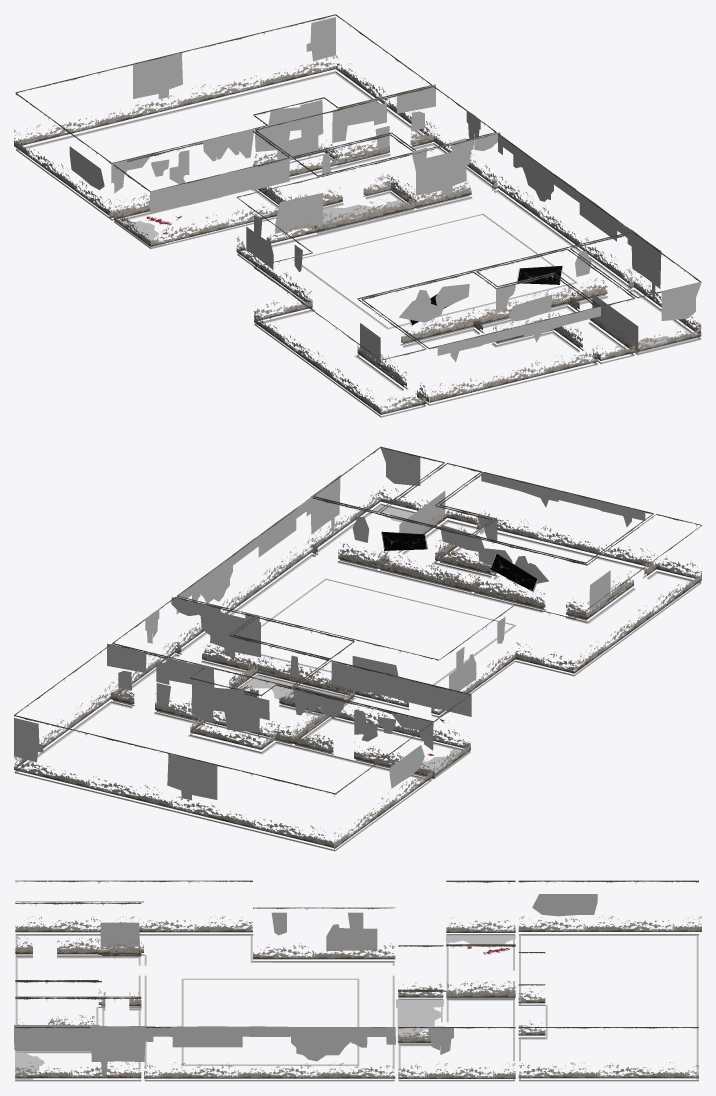
The model's file is A2_H2_Decals.FBX.
3 views of the same model, one above another, from view 1: azimuth 30°, elevation 25°; view 2: azimuth 150°, elevation 25°; view 3: azimuth 270°, elevation 25° (orthographic). The views are drawn at different scales.
Visible parts, largest first — view 1: A2_H2_Decals; view 2: A2_H2_Decals; view 3: A2_H2_Decals.
Part boxes in pixels (x1,y1,x2,y2): A2_H2_Decals: [14, 14, 701, 417]; A2_H2_Decals: [14, 446, 701, 851]; A2_H2_Decals: [14, 880, 701, 1081].
Size of the model in its own units: 1838 by 320 by 3578.
